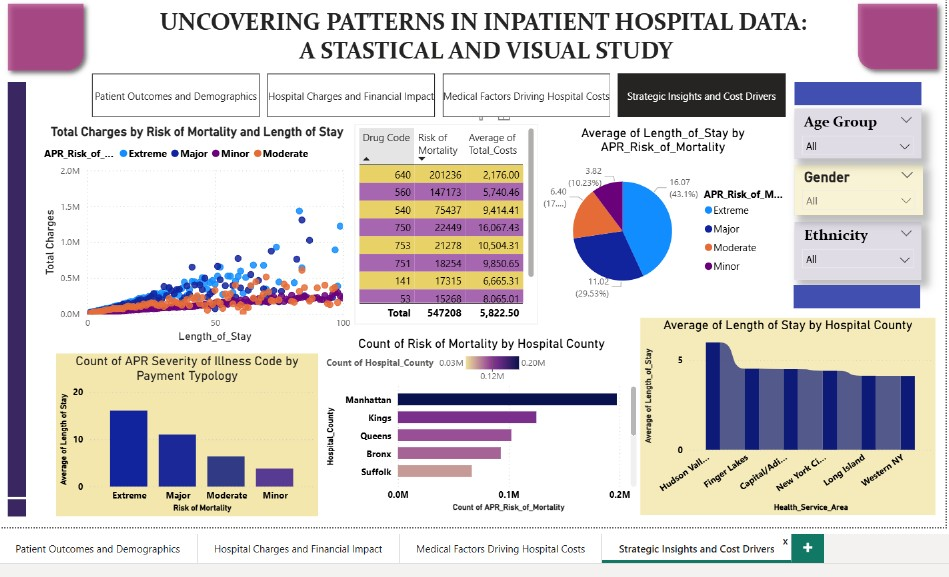

What the dashboard file says about the page in this screenshot:
{"tool":"powerbi","page":{"name":"Strategic Insights and Cost Drivers","canvas":[1280,720],"ordinal":3},"visuals":[{"type":"shape","box":[0,0,125,113.3],"z":0},{"type":"slicer","fields":{"Values":["data_cleaned.Age_Group"]},"box":[1075,153.3,171.7,68.3],"z":1000},{"type":"slicer","title":"GENDER","fields":{"Values":["data_cleaned.Gender"]},"box":[1075,230,173.3,68.3],"z":2000},{"type":"slicer","fields":{"Values":["data_cleaned.Ethnicity"]},"box":[1075,306.7,171.7,78.3],"z":3000},{"type":"shape","box":[1075,116.7,171.7,31.7],"z":4000},{"type":"shape","box":[1150,0,130,111.7],"z":5000},{"type":"shape","box":[11.7,116.7,25,561.7],"z":6000},{"type":"shape","box":[11.7,681.7,25,23.3],"z":7000},{"type":"scatterChart","title":"Total Charges by Risk of Mortality and Length of Stay","fields":{"X":["data_cleaned.Length_of_Stay"],"Y":["Avg(data_cleaned.Total_Charges)"],"Series":["data_cleaned.APR_Risk_of_Mortality"]},"box":[55.7,174.3,424.3,300],"z":8000},{"type":"lineStackedColumnComboChart","title":"Count of APR Severity of Illness Code by Payment Typology","fields":{"Category":["data_cleaned.APR_Risk_of_Mortality"],"Y":["Avg(data_cleaned.Length_of_Stay)"]},"box":[77.1,484.3,354.3,220],"z":9000},{"type":"tableEx","fields":{"Values":["data_cleaned.APR_DRG_Code","CountNonNull(data_cleaned.APR_Risk_of_Mortality)","Avg(data_cleaned.Total_Costs)"]},"box":[480,174.3,248.6,271.4],"z":10000},{"type":"clusteredBarChart","title":"Count of Risk of Mortality by Hospital County","fields":{"Category":["data_cleaned.Hospital_County"],"Y":["CountNonNull(data_cleaned.APR_Risk_of_Mortality)"]},"box":[437.7,461.1,429.5,242.9],"z":11000},{"type":"ribbonChart","title":"Average of Length of Stay by Hospital County","fields":{"Category":["data_cleaned.Health_Service_Area"],"Y":["Avg(data_cleaned.Length_of_Stay)"]},"box":[867.2,436.4,399.3,267.6],"z":12000},{"type":"shape","box":[1074.4,392.5,171.5,31.6],"z":13000},{"type":"pageNavigator","box":[124.7,106.4,941.6,59.9],"z":14000},{"type":"textbox","box":[162.6,11,991.7,111.3],"z":15000},{"type":"pieChart","fields":{"Category":["data_cleaned.APR_Risk_of_Mortality"],"Y":["Avg(data_cleaned.Length_of_Stay)"]},"box":[728.6,175.7,338.6,248.6],"z":16000}]}

Visuals, with their boxes on the page's 1280x720 design canvas (x1, y1, x2, y2). These are canvas units, not pixel positions in the 949x577 screenshot, which may show the page scaled, cropped or inside an application window:
shape: crop(0, 0, 125, 113)
slicer - data_cleaned.Age_Group: crop(1075, 153, 1247, 222)
"GENDER" slicer: crop(1075, 230, 1248, 298)
slicer - data_cleaned.Ethnicity: crop(1075, 307, 1247, 385)
shape: crop(1075, 117, 1247, 148)
shape: crop(1150, 0, 1280, 112)
shape: crop(12, 117, 37, 678)
shape: crop(12, 682, 37, 705)
"Total Charges by Risk of Mortality and Length of Stay" scatterChart: crop(56, 174, 480, 474)
"Count of APR Severity of Illness Code by Payment Typology" lineStackedColumnComboChart: crop(77, 484, 431, 704)
tableEx - data_cleaned.APR_DRG_Code x CountNonNull(data_cleaned.APR_Risk_of_Mortality): crop(480, 174, 729, 446)
"Count of Risk of Mortality by Hospital County" clusteredBarChart: crop(438, 461, 867, 704)
"Average of Length of Stay by Hospital County" ribbonChart: crop(867, 436, 1266, 704)
shape: crop(1074, 392, 1246, 424)
pageNavigator: crop(125, 106, 1066, 166)
textbox: crop(163, 11, 1154, 122)
pieChart - data_cleaned.APR_Risk_of_Mortality x Avg(data_cleaned.Length_of_Stay): crop(729, 176, 1067, 424)
